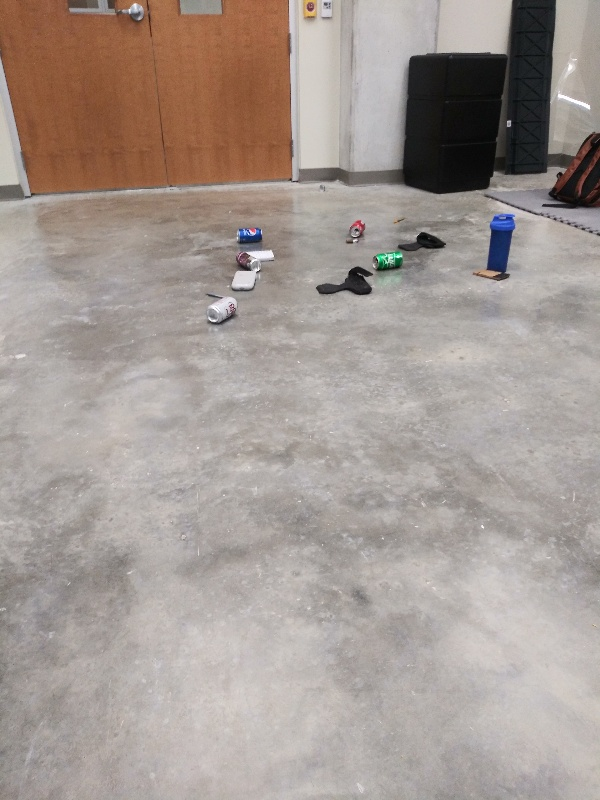can: (205, 296, 241, 325), (370, 250, 404, 272), (234, 251, 264, 273), (233, 225, 265, 245), (347, 218, 367, 239)
